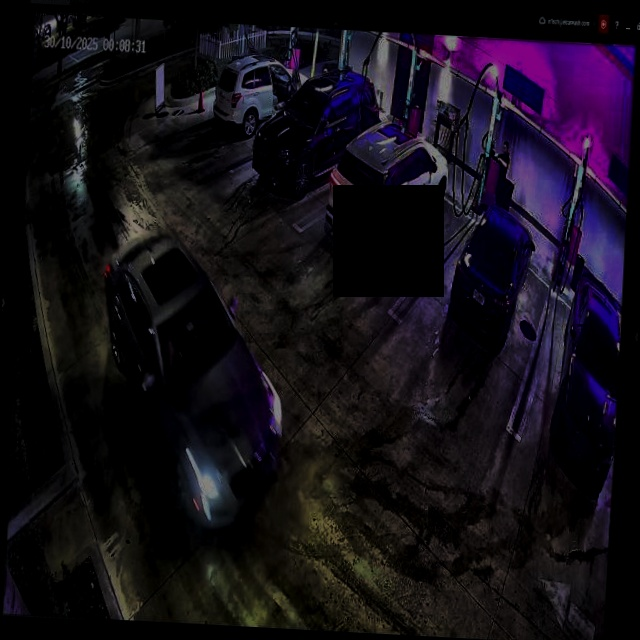Car: (86, 225, 289, 528), (320, 118, 449, 263), (249, 67, 379, 200), (448, 205, 534, 352)
